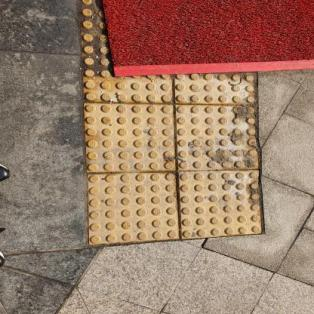Podoctatil: (64, 0, 272, 249)
